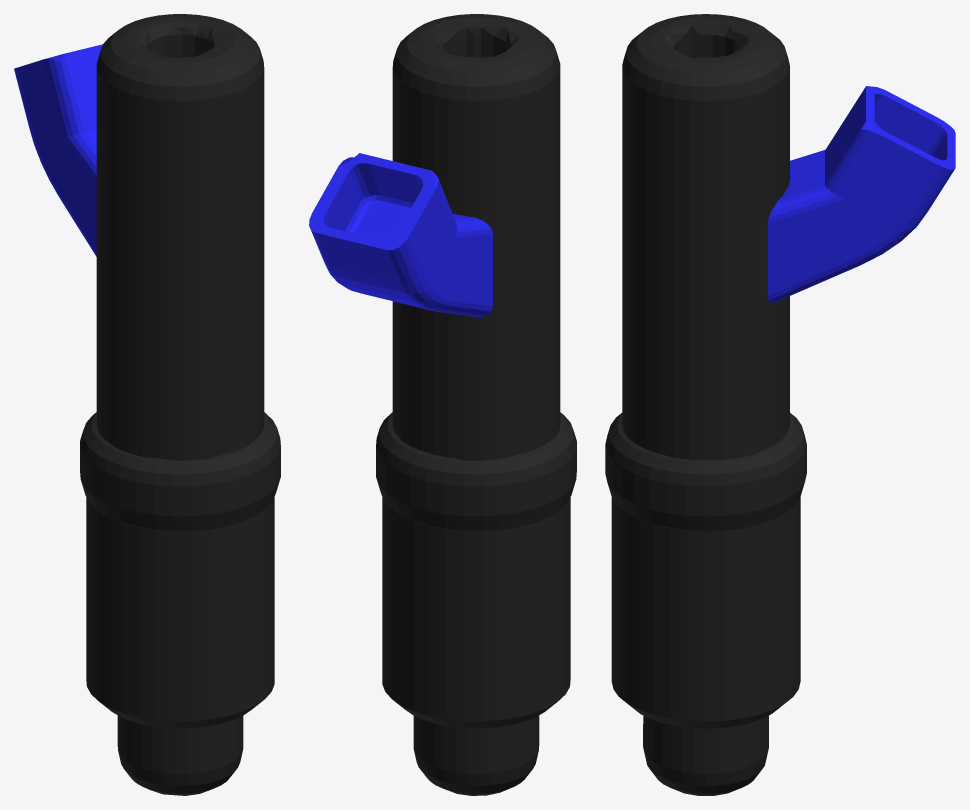
File: fuel_injector.obj
3 renders of one model, left to right at view 1: azimuth 30°, elevation 25°; view 2: azimuth 150°, elevation 25°; view 3: azimuth 270°, elevation 25°, orthographic.
Visible parts, largest first — view 1: Injector-1, Plug.004; view 2: Injector-1, Plug.004; view 3: Injector-1, Plug.004.
Boxes of the visible parts, left/top/right/bottom form: Injector-1: left=80, top=14, right=280, bottom=795; Plug.004: left=14, top=44, right=102, bottom=256; Injector-1: left=376, top=14, right=576, bottom=795; Plug.004: left=309, top=153, right=492, bottom=317; Injector-1: left=605, top=14, right=806, bottom=795; Plug.004: left=767, top=86, right=955, bottom=302.
Bounding box in the file's own units: 0.0106 × 0.043 × 0.0184.
